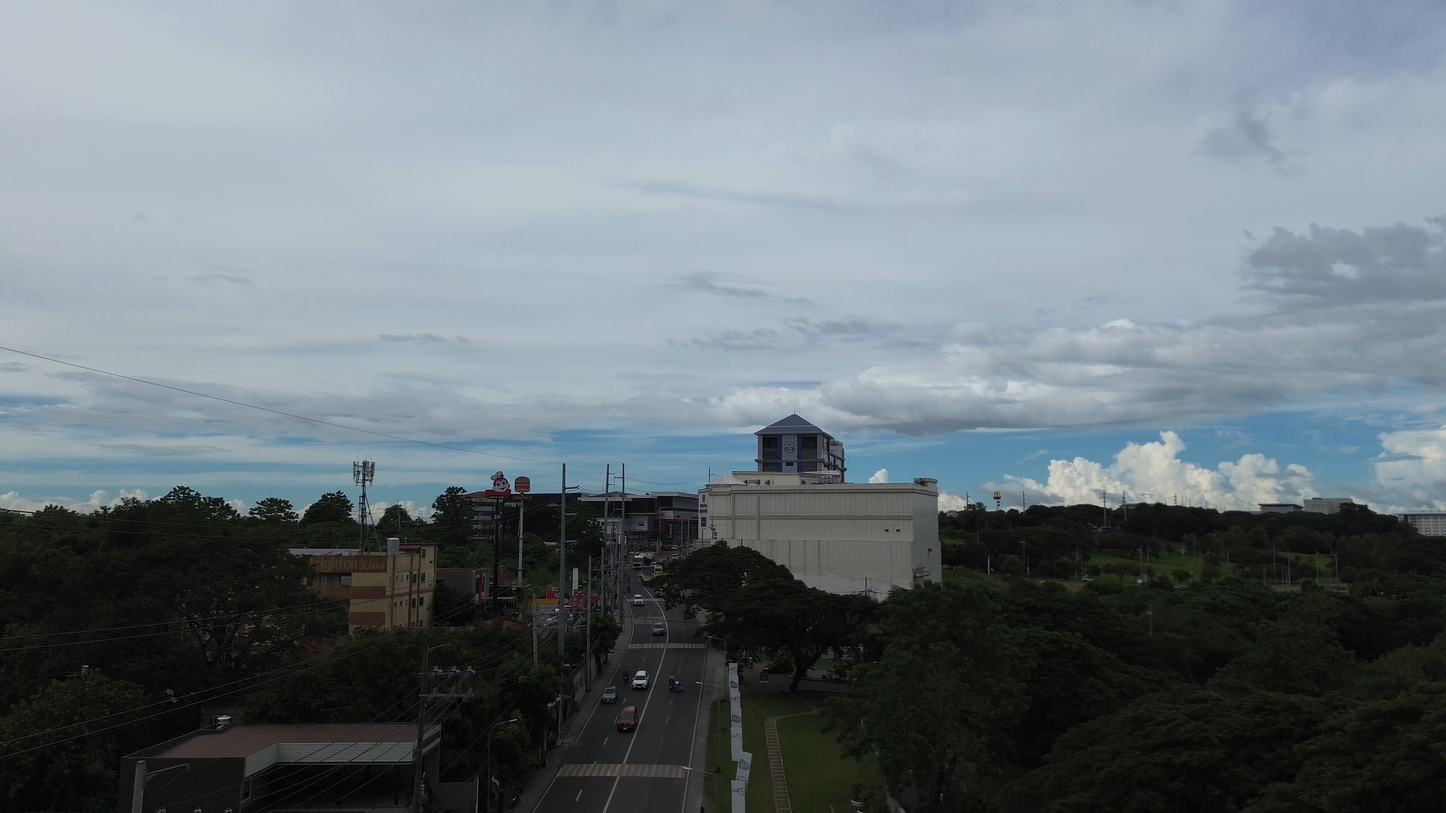car: (615, 706, 638, 731), (631, 670, 650, 690), (600, 686, 618, 703), (652, 622, 667, 635), (632, 594, 644, 606)
vehicle: (670, 676, 682, 692)
